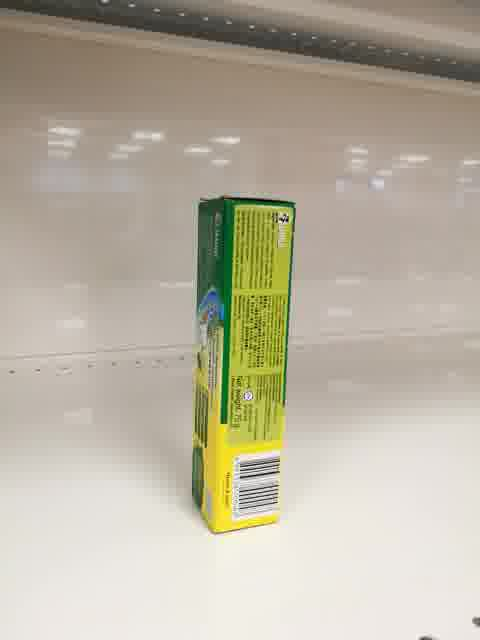toothpaste: (192, 197, 297, 535)
